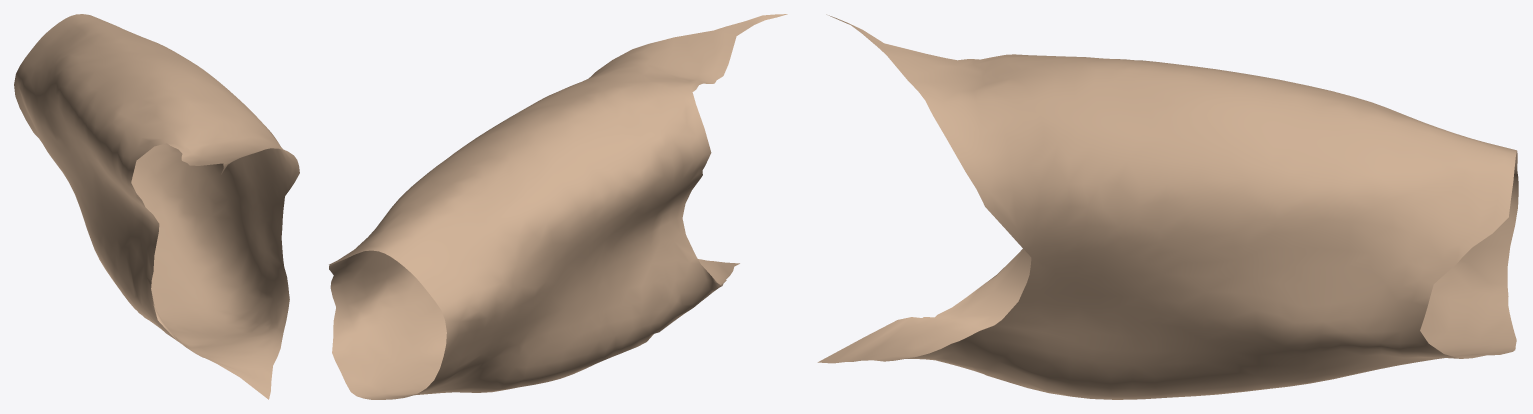
3 views of the same model, side by side, from view 1: azimuth 30°, elevation 25°; view 2: azimuth 150°, elevation 25°; view 3: azimuth 270°, elevation 25° (orthographic). The views are drawn at different scales.
Parts seen in each view (by area): view 1: 左侧臂筋膜; view 2: 左侧臂筋膜; view 3: 左侧臂筋膜.
Boxes of the visible parts, left/top/right/bottom form: 左侧臂筋膜: left=14, top=14, right=299, bottom=399; 左侧臂筋膜: left=329, top=14, right=787, bottom=399; 左侧臂筋膜: left=817, top=14, right=1518, bottom=399.
Size of the model in its own units: 0.1297 by 0.1496 by 0.2973.
